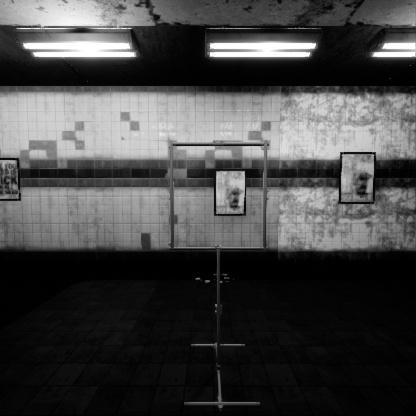gate: (170, 164, 277, 274)
